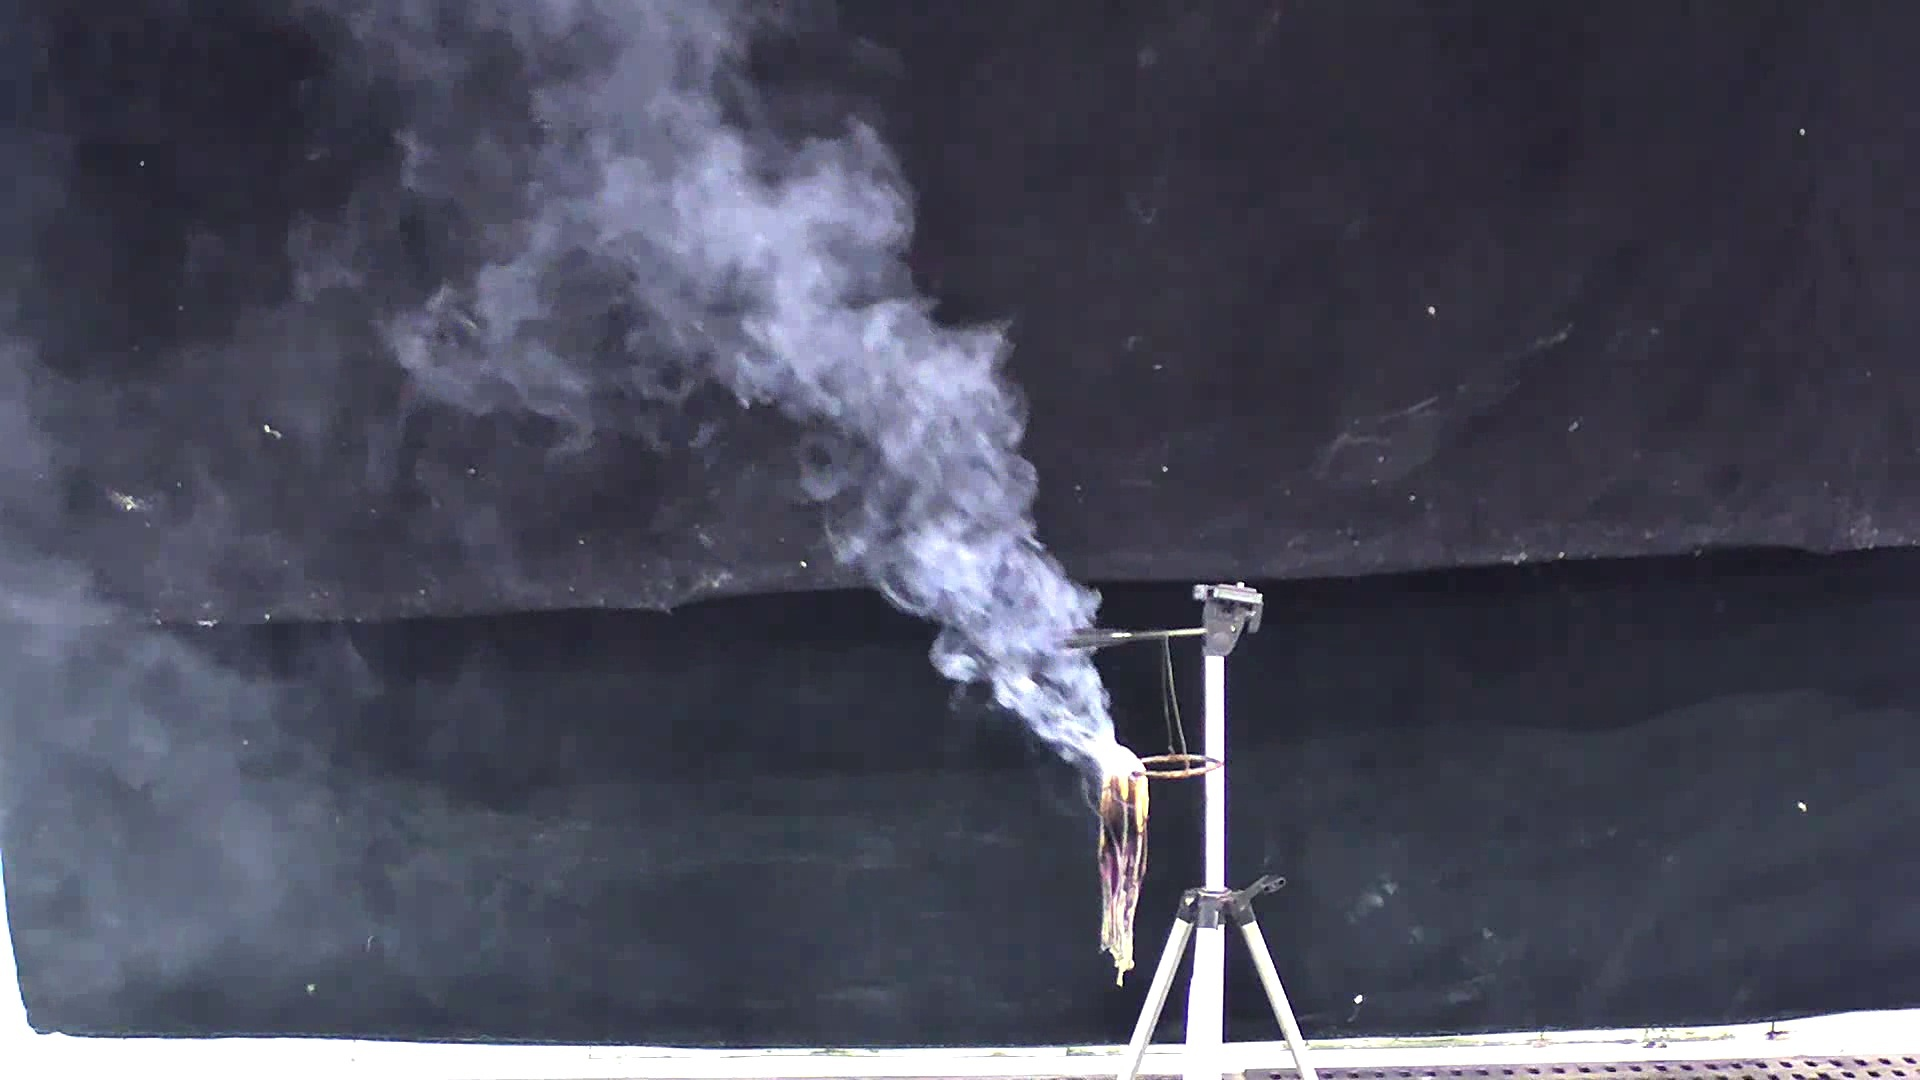smoke: (316, 20, 1154, 811)
